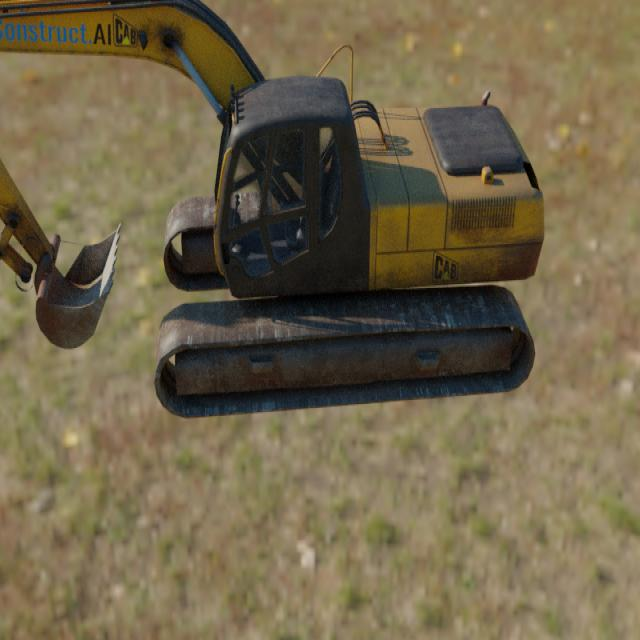excavator: (0, 0, 545, 420)
